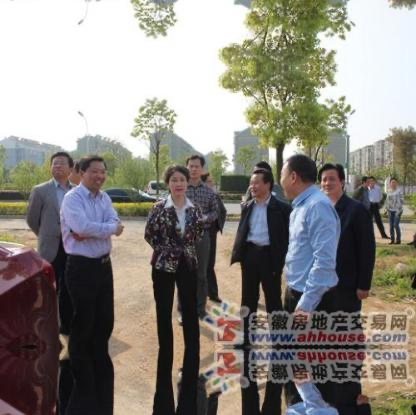No Safety Helmet: (278, 151, 321, 204), (315, 156, 352, 210), (158, 161, 193, 209), (43, 143, 77, 192), (77, 151, 109, 197), (245, 168, 277, 206), (181, 151, 208, 188), (385, 172, 404, 195), (358, 172, 379, 192)
